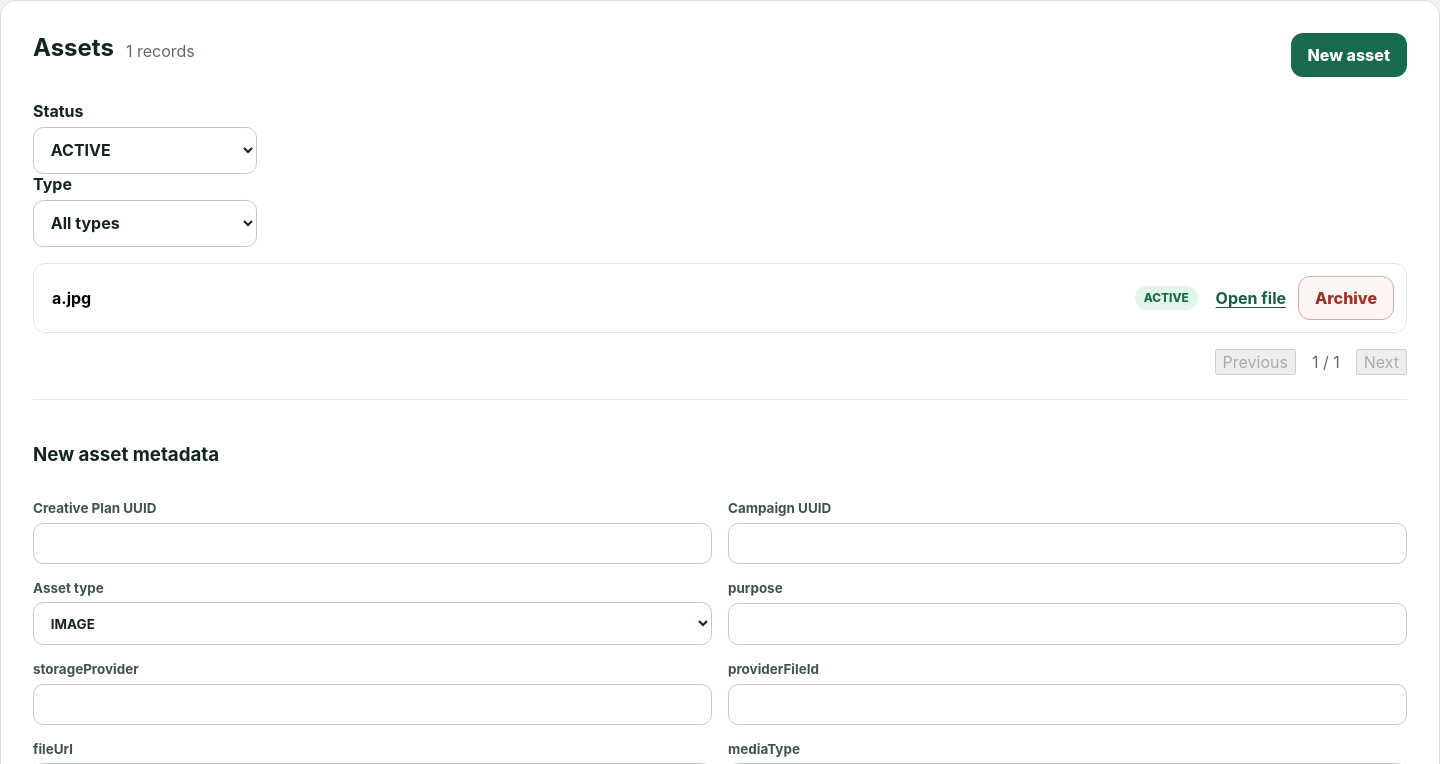
Test: AssetsTab › sends a stale displayed lifecycle token and surfaces 412 without fetching a fresh token
Click the button "Archive" at [1346, 298], box [1298,276,1394,320]
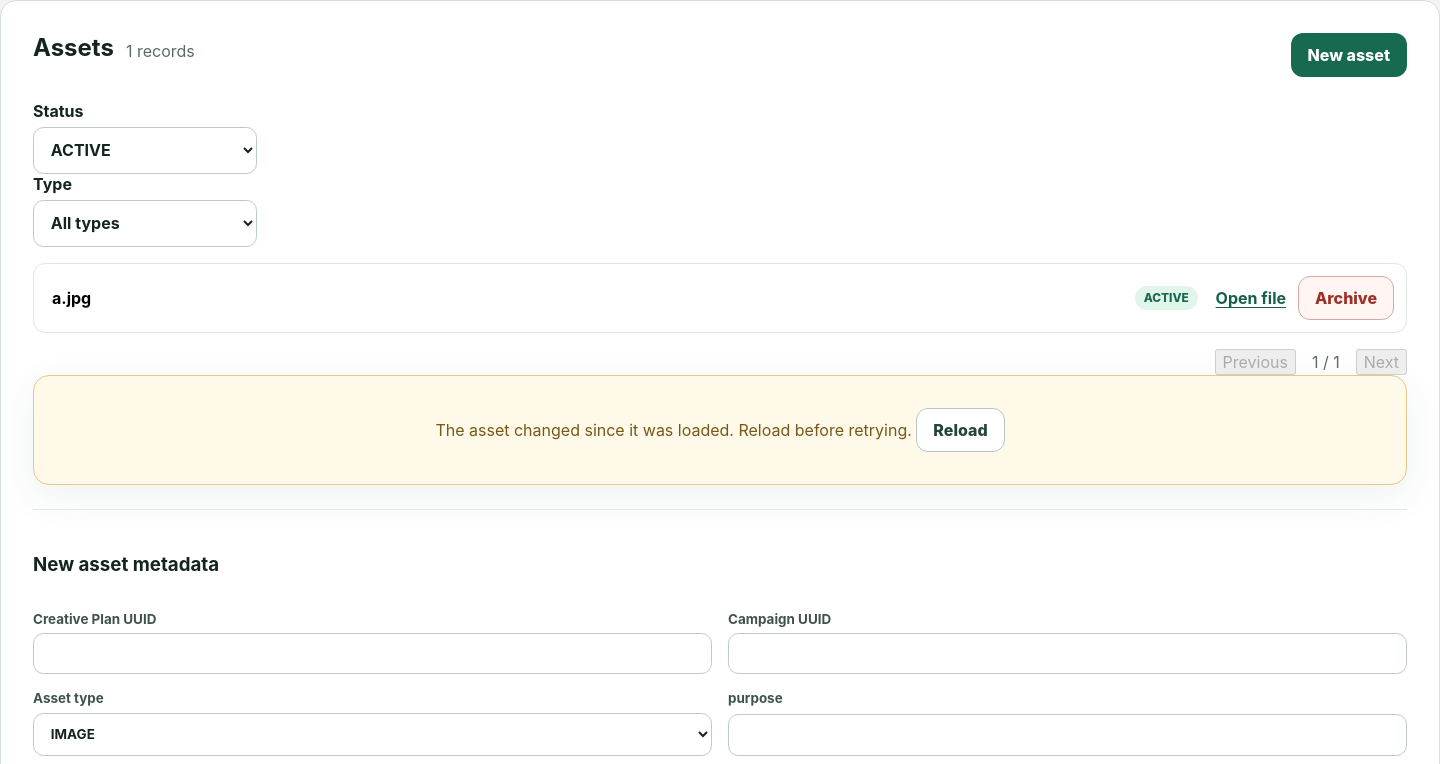
Check: the message shows "changed since it was loaded", box [435,420,734,440]
